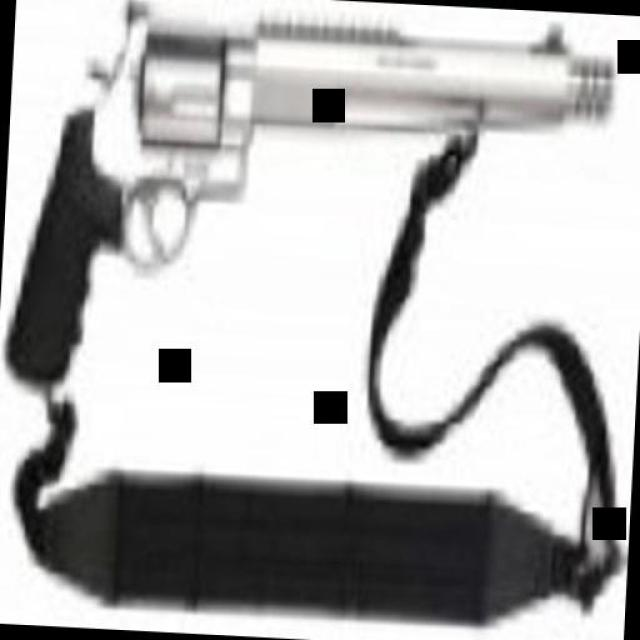gun: (2, 0, 609, 422)
